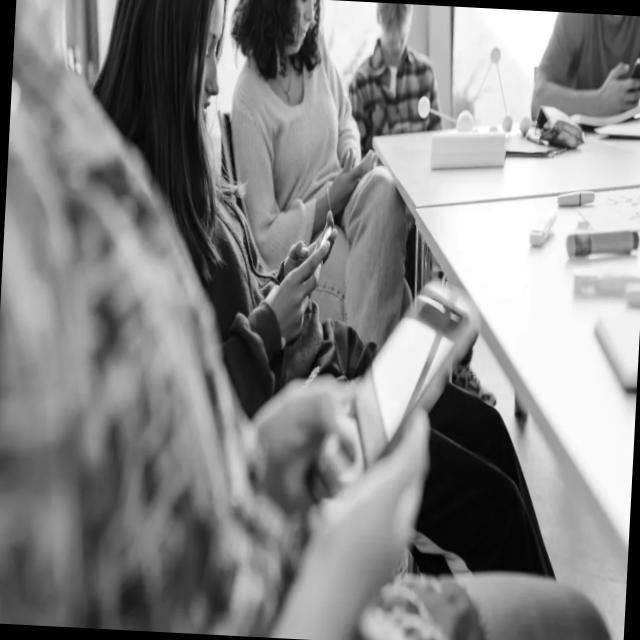phone: (304, 280, 480, 514), (530, 206, 558, 248), (536, 105, 554, 134), (631, 56, 640, 80)
